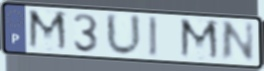3: (71, 12, 100, 54)
I: (146, 15, 159, 59)
M: (178, 16, 222, 63), (27, 7, 71, 54)
N: (219, 20, 257, 63)
U: (104, 11, 145, 59)
